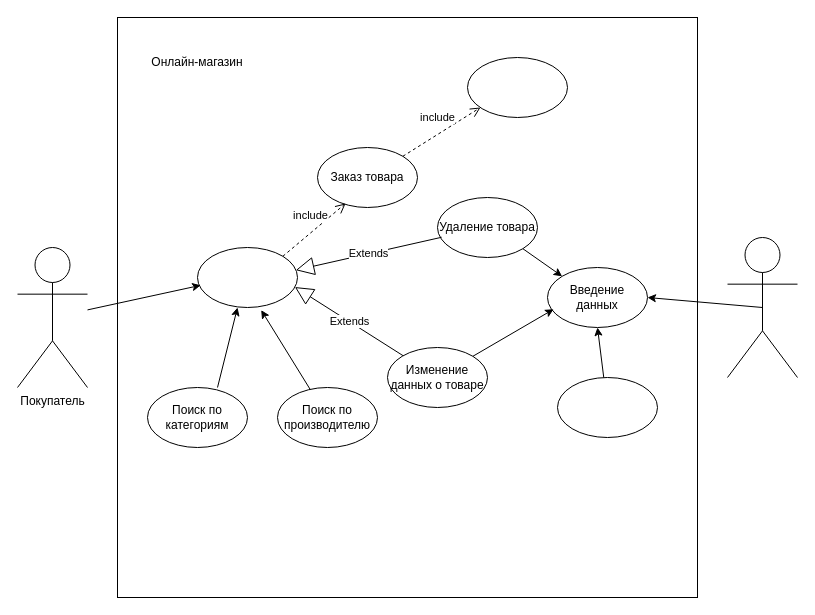
Image size: 815x615. Some labels were removed from this diagram. The centre of each missing label's shape, as x and y in pixels:
"Выбор способа оплаты" goes at pixel 517 87.
"Добавление товара" goes at pixel 607 407.
"Поиск товара" goes at pixel 247 277.
"Продавец" goes at pixel 762 307.
